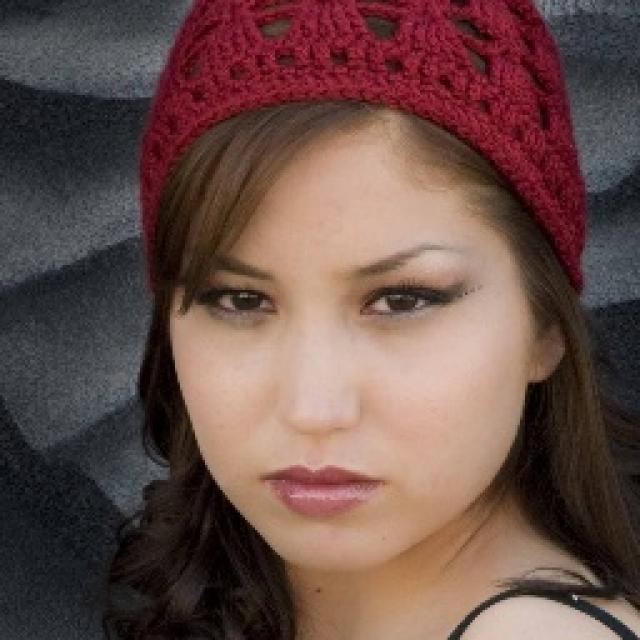earlobe: (530, 330, 566, 382)
eye: (197, 287, 284, 318), (362, 288, 451, 318)
nose: (278, 421, 352, 455)
